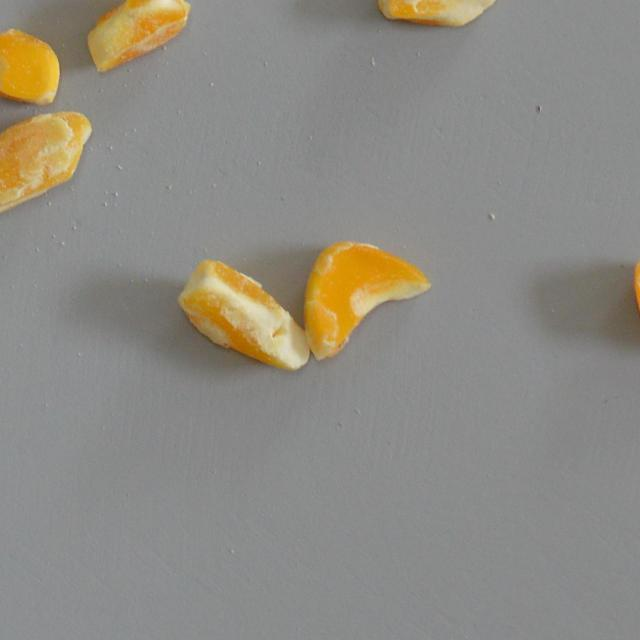dañado: (174, 252, 314, 376), (301, 236, 434, 364), (0, 106, 96, 219), (84, 0, 192, 78), (0, 23, 64, 109), (367, 0, 506, 30), (630, 250, 640, 358)
